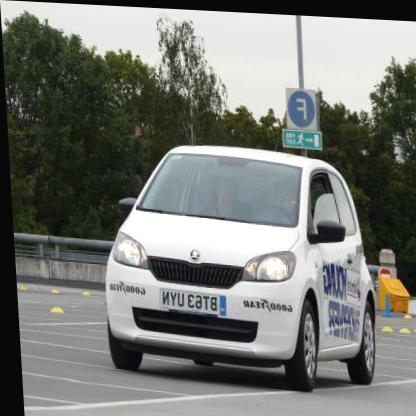License_Plate: (159, 289, 226, 316)
